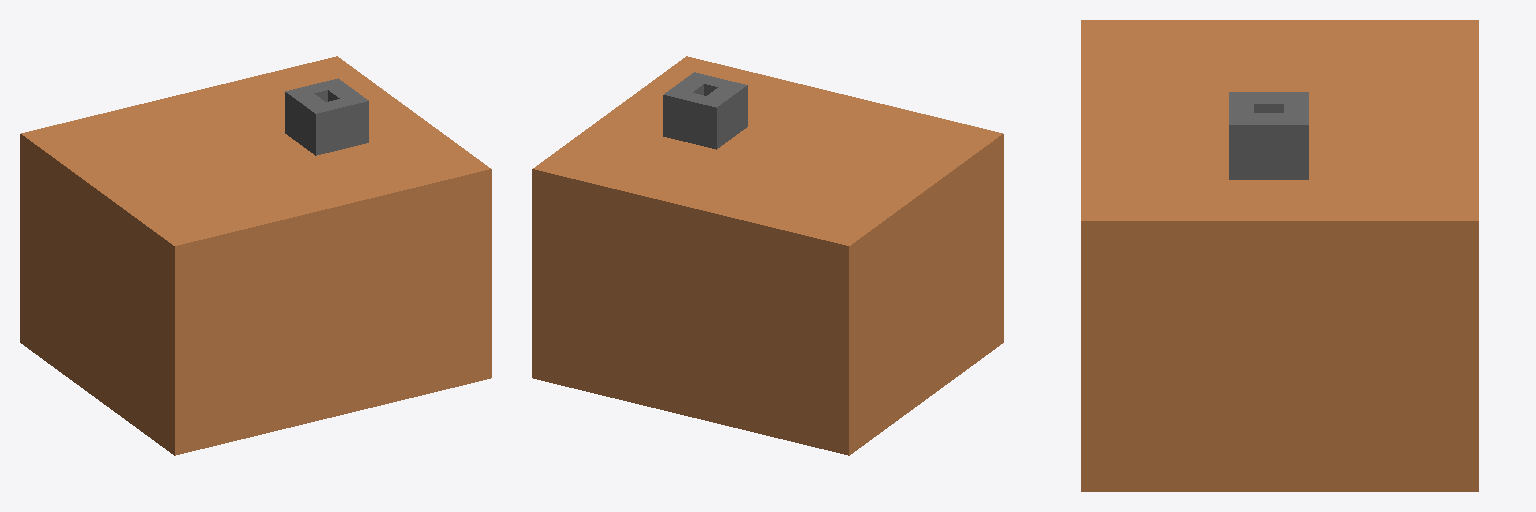
robot.urdf — peg_in_hole_tolerances_scenes_scene_0022_tol00:
<?xml version="1.0"?>
<robot name="peg_in_hole_tolerances_scenes_scene_0022_tol00">
  <material name="wood"><color rgba="0.82 0.56 0.35 1.0"/></material>
  <material name="hole_grey"><color rgba="0.4706 0.4706 0.4706 1.0"/></material>
  <link name="box">
    <visual>
      <origin xyz="0.000000 0.000000 0.000000" rpy="0 0 0"/>
      <geometry><box size="0.475000 0.400000 0.300000"/></geometry>
      <material name="wood"/>
    </visual>
    <collision>
      <origin xyz="0.000000 0.000000 0.000000" rpy="0 0 0"/>
      <geometry><box size="0.475000 0.400000 0.300000"/></geometry>
    </collision>
    <visual>
      <origin xyz="0.100147 -0.011056 0.155000" rpy="0 0 0"/>
      <geometry><box size="0.080000 0.080000 0.010000"/></geometry>
      <material name="hole_grey"/>
    </visual>
    <collision>
      <origin xyz="0.100147 -0.011056 0.155000" rpy="0 0 0"/>
      <geometry><box size="0.080000 0.080000 0.010000"/></geometry>
    </collision>
    <visual>
      <origin xyz="0.125413 -0.011056 0.185000" rpy="0 0 0"/>
      <geometry><box size="0.029468 0.080000 0.050000"/></geometry>
      <material name="hole_grey"/>
    </visual>
    <collision>
      <origin xyz="0.125413 -0.011056 0.185000" rpy="0 0 0"/>
      <geometry><box size="0.029468 0.080000 0.050000"/></geometry>
    </collision>
    <visual>
      <origin xyz="0.074881 -0.011056 0.185000" rpy="0 0 0"/>
      <geometry><box size="0.029468 0.080000 0.050000"/></geometry>
      <material name="hole_grey"/>
    </visual>
    <collision>
      <origin xyz="0.074881 -0.011056 0.185000" rpy="0 0 0"/>
      <geometry><box size="0.029468 0.080000 0.050000"/></geometry>
    </collision>
    <visual>
      <origin xyz="0.100147 0.016710 0.185000" rpy="0 0 0"/>
      <geometry><box size="0.021065 0.024468 0.050000"/></geometry>
      <material name="hole_grey"/>
    </visual>
    <collision>
      <origin xyz="0.100147 0.016710 0.185000" rpy="0 0 0"/>
      <geometry><box size="0.021065 0.024468 0.050000"/></geometry>
    </collision>
    <visual>
      <origin xyz="0.100147 -0.038822 0.185000" rpy="0 0 0"/>
      <geometry><box size="0.021065 0.024468 0.050000"/></geometry>
      <material name="hole_grey"/>
    </visual>
    <collision>
      <origin xyz="0.100147 -0.038822 0.185000" rpy="0 0 0"/>
      <geometry><box size="0.021065 0.024468 0.050000"/></geometry>
    </collision>
    <inertial>
      <mass value="500"/>
      <friction value="1.0"/>
      <inertia ixx="1000.0" ixy="0.0" ixz="0.0" iyy="1000.0" iyz="0.0" izz="1000.0"/>
    </inertial>
  </link>
</robot>

--- What the picture shows (computed from the rendered views, not written in the file) ---
Views: 3 orthographic renders of the robot side by side, from view 1: azimuth 30°, elevation 25°; view 2: azimuth 150°, elevation 25°; view 3: azimuth 270°, elevation 25°.
Robot: peg_in_hole_tolerances_scenes_scene_0022_tol00 — 1 links, 0 joints (none); root link box; default pose: every joint at zero.
Visible links, largest first — view 1: box; view 2: box; view 3: box.
Link boxes in pixels (x1,y1,x2,y2): box: (20,56,491,455); box: (532,56,1003,455); box: (1081,20,1478,491).
Bounding box of the posed robot: 0.475 × 0.4 × 0.36 m (x, y, z).
Geometry: primitives only (box / cylinder / sphere), no mesh files.
